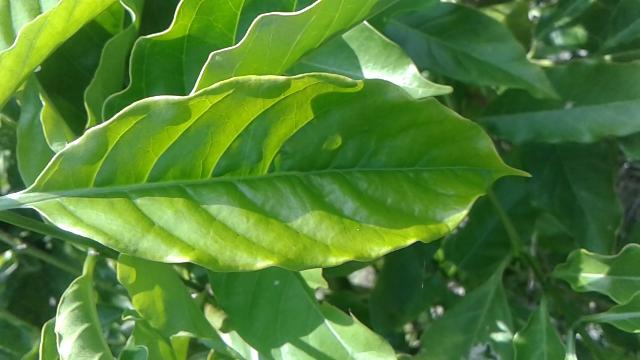healthy: (22, 68, 539, 273)
